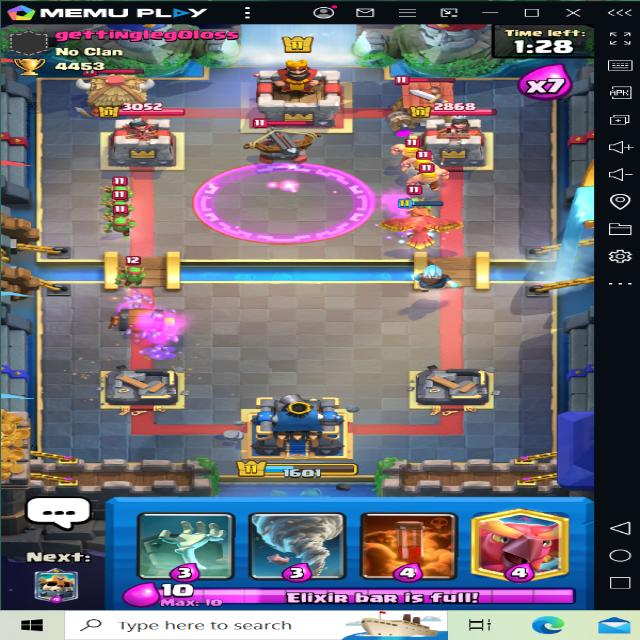barbarian: (402, 164, 452, 188), (388, 137, 432, 159), (394, 155, 447, 173)
barbarian-hut: (390, 74, 462, 124)
goblin-hut: (77, 64, 150, 113)
rage: (196, 161, 375, 240)
spear-goblin: (99, 173, 136, 200), (102, 216, 132, 244), (119, 263, 147, 291), (105, 196, 137, 219)
x-bow: (234, 112, 322, 168)
